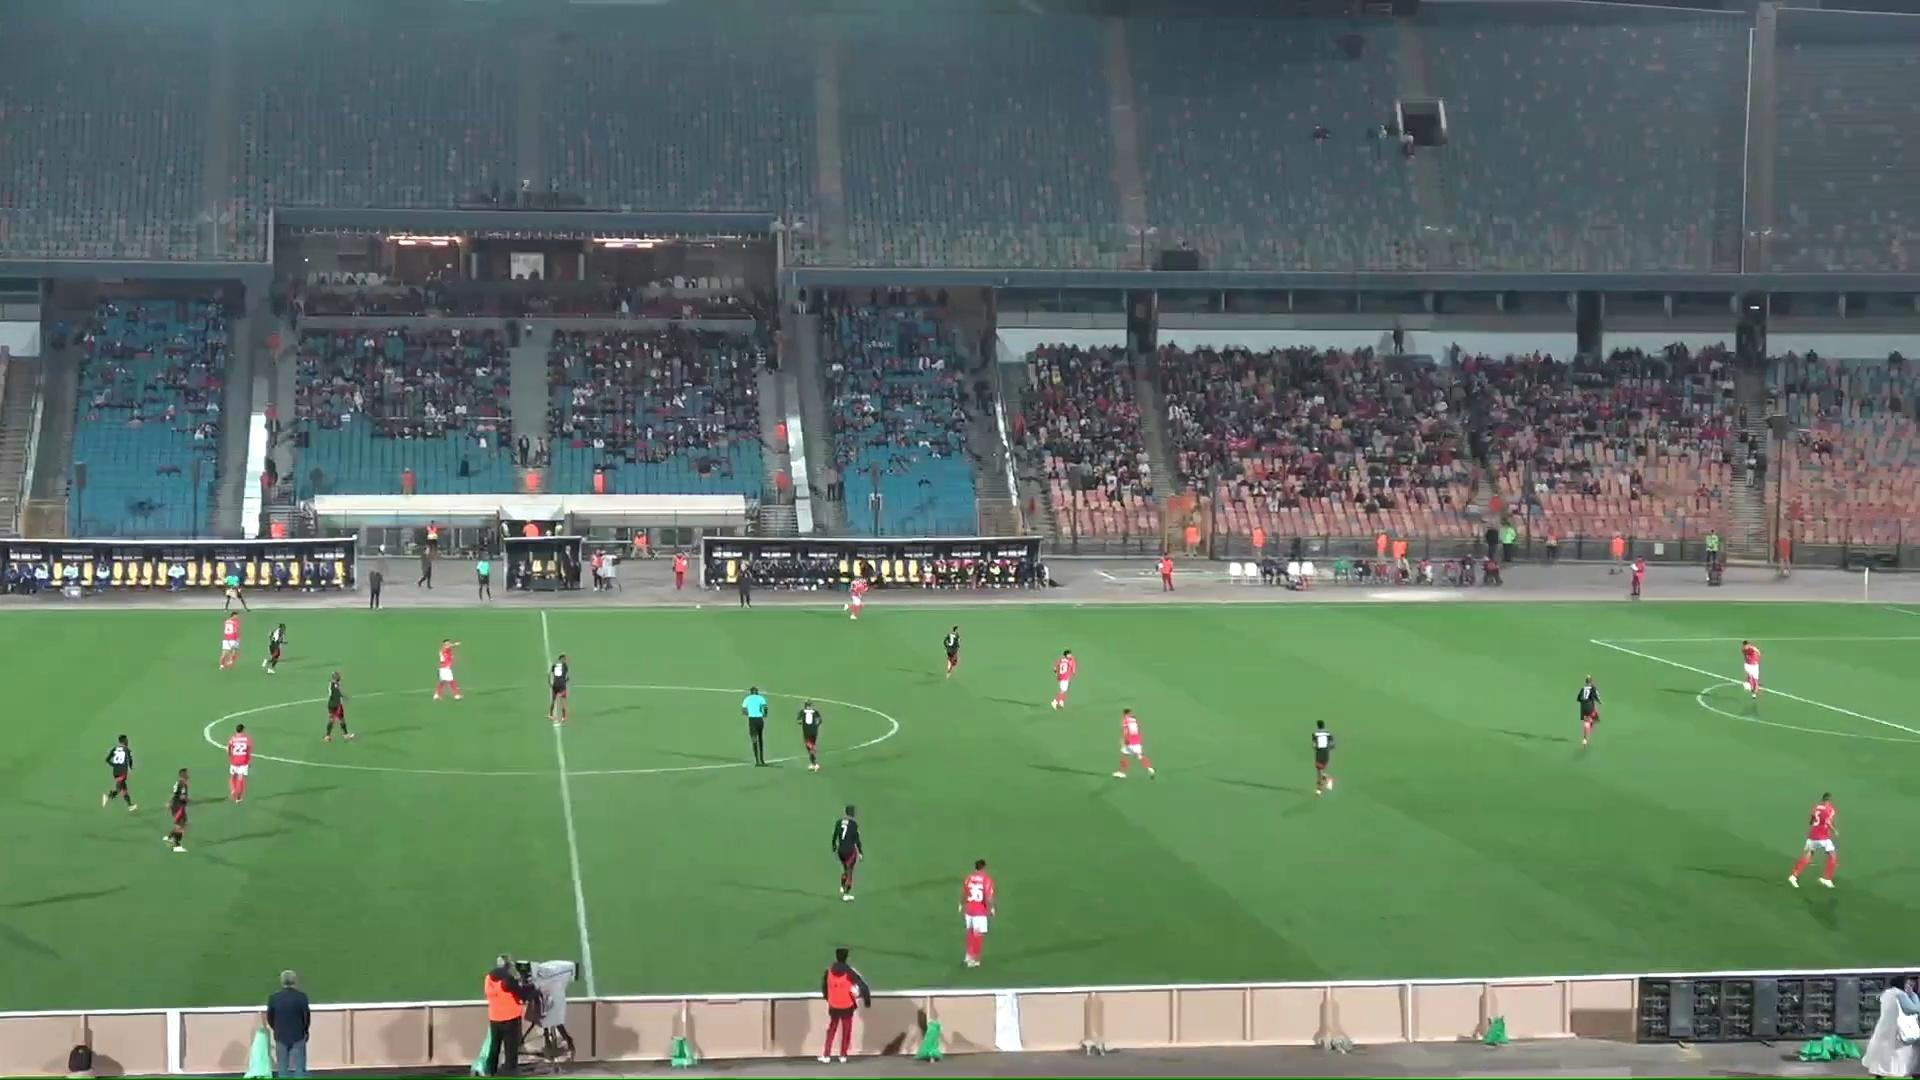Ball: (1742, 680, 1760, 698)
Refree: (740, 686, 769, 765), (223, 571, 251, 613), (475, 551, 495, 599)
Team1: (1788, 793, 1838, 887), (957, 858, 996, 967), (1113, 709, 1153, 778), (223, 724, 255, 802), (1048, 649, 1079, 709), (433, 640, 463, 700), (218, 611, 245, 669), (1741, 640, 1764, 698), (844, 576, 872, 618)
Team2: (829, 804, 864, 901), (102, 735, 136, 810), (164, 769, 193, 851), (324, 673, 353, 738), (796, 700, 822, 771), (1311, 721, 1335, 794), (1576, 675, 1601, 744), (547, 654, 570, 721), (261, 622, 287, 673), (942, 626, 963, 676)
